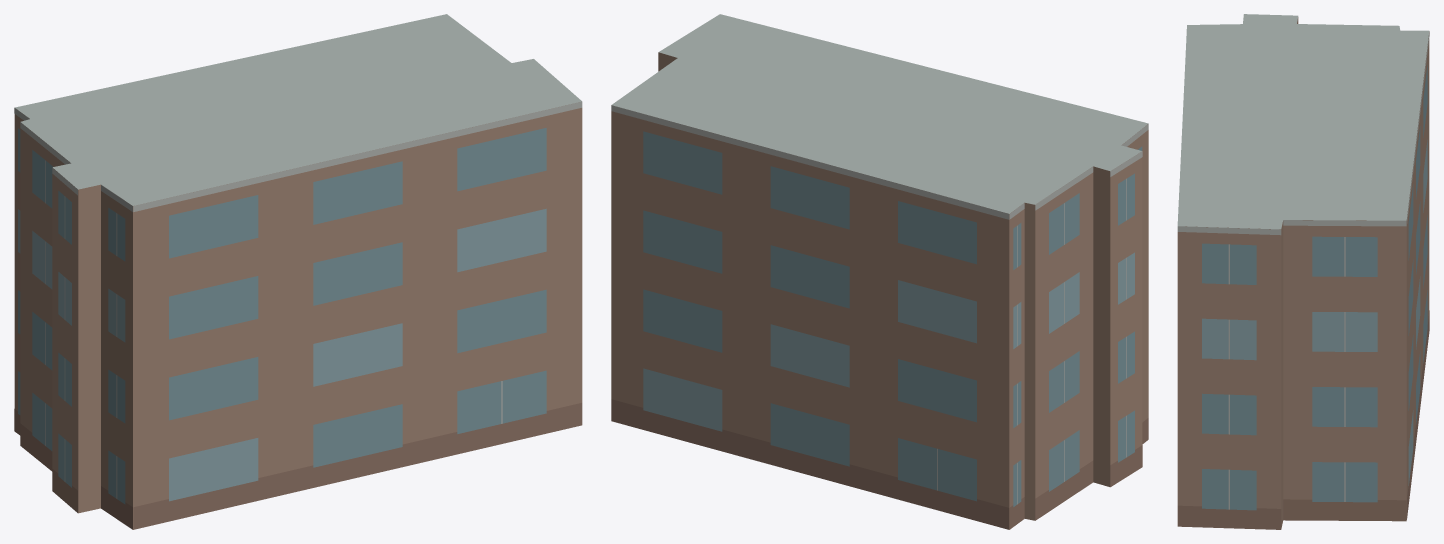
File: survey-upis-32736820.glb
3 renders of one model, left to right at view 1: azimuth 30°, elevation 25°; view 2: azimuth 150°, elevation 25°; view 3: azimuth 270°, elevation 25°, orthographic. The views are drawn at different scales.
Parts seen in each view (by area): view 1: survey-upis-32736820.tmp; view 2: survey-upis-32736820.tmp; view 3: survey-upis-32736820.tmp.
Boxes of the visible parts, x1,y1,x2,y2 form: survey-upis-32736820.tmp: [14, 14, 582, 529]; survey-upis-32736820.tmp: [611, 14, 1148, 529]; survey-upis-32736820.tmp: [1177, 14, 1429, 529].
Bounding box in the file's own units: 19.69 × 12.8 × 9.73.
